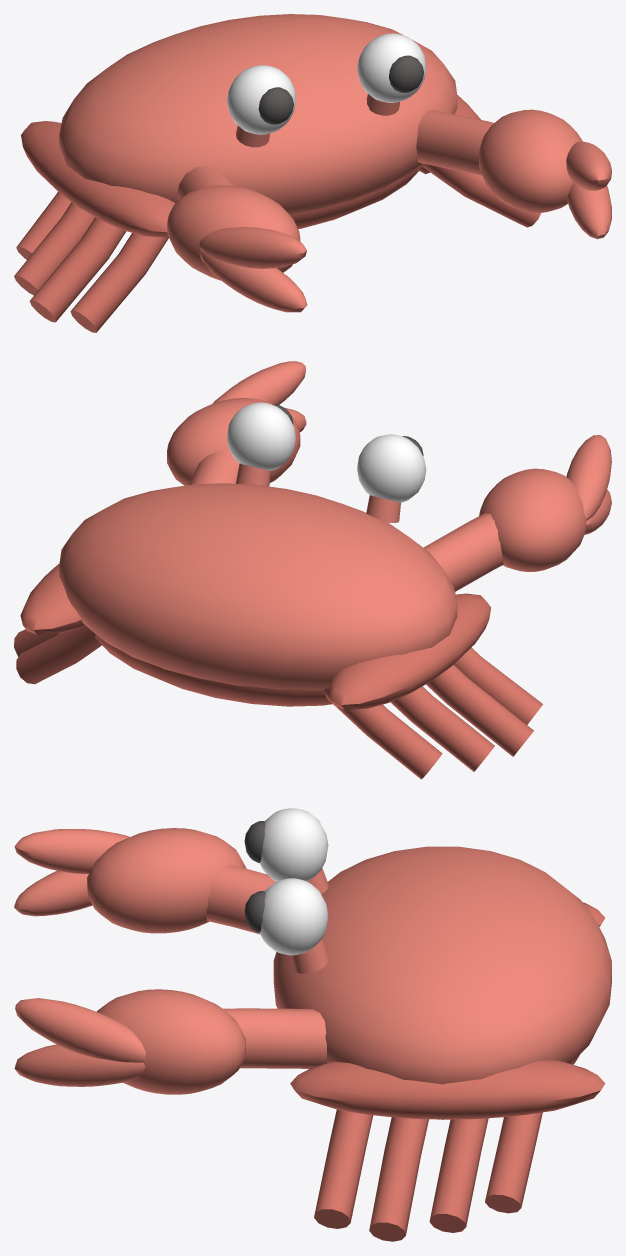
File: cangrejo_suave.glb
The picture shows the model from 3 angles, top to bottom: view 1: azimuth 30°, elevation 25°; view 2: azimuth 150°, elevation 25°; view 3: azimuth 270°, elevation 25°; orthographic projection. The views are drawn at different scales.
Visible parts, largest first — view 1: concha, pinza1, reborde-1, pinza-1, pataC-11, pataC-10, brazoC1, dedo-10, dedo-11, pataC-12, ojoC1, ojoC-1 (+10 smaller); view 2: concha, pinza-1, reborde-1, pinza1, pataC-11, ojoC-1, ojoC1, brazoC-1, pataC-12, vientre, pataC-13, pataC13 (+8 smaller); view 3: concha, reborde1, pinza-1, pinza1, brazoC1, dedo10, pataC11, pataC10, pataC12, ojoC1, ojoC-1, pataC13 (+7 smaller).
Boxes of the visible parts, x1,y1,x2,y2 form: concha: (59,14,457,214); pinza1: (479,109,582,212); reborde-1: (21,121,175,237); pinza-1: (167,185,300,280); pataC-11: (29,217,126,322); pataC-10: (70,233,168,332); brazoC1: (416,110,493,175); dedo-10: (199,227,306,268); dedo-11: (199,250,307,312); pataC-12: (14,202,95,295); ojoC1: (357,33,426,102); ojoC-1: (227,65,295,134); concha: (59,483,457,690); pinza-1: (479,468,586,571); reborde-1: (328,593,491,709); pinza1: (167,398,300,485); pataC-11: (426,664,533,756); ojoC-1: (357,434,426,502); ojoC1: (227,402,295,470); brazoC-1: (423,513,503,591); pataC-12: (390,686,494,771); vientre: (95,634,332,706); pataC-13: (322,687,442,779); pataC13: (16,625,101,684); concha: (273,846,611,1084); reborde1: (290,1060,605,1119); pinza-1: (87,828,246,933); pinza1: (96,989,245,1094); brazoC1: (223,1008,327,1068); dedo10: (15,998,145,1062); pataC11: (369,1117,428,1241); pataC10: (314,1109,373,1228); pataC12: (429,1118,488,1232); ojoC1: (259,878,328,955); ojoC-1: (259,808,328,881); pataC13: (485,1112,542,1213).
Bounding box in the file's own units: 25.27 × 11.87 × 23.82.
